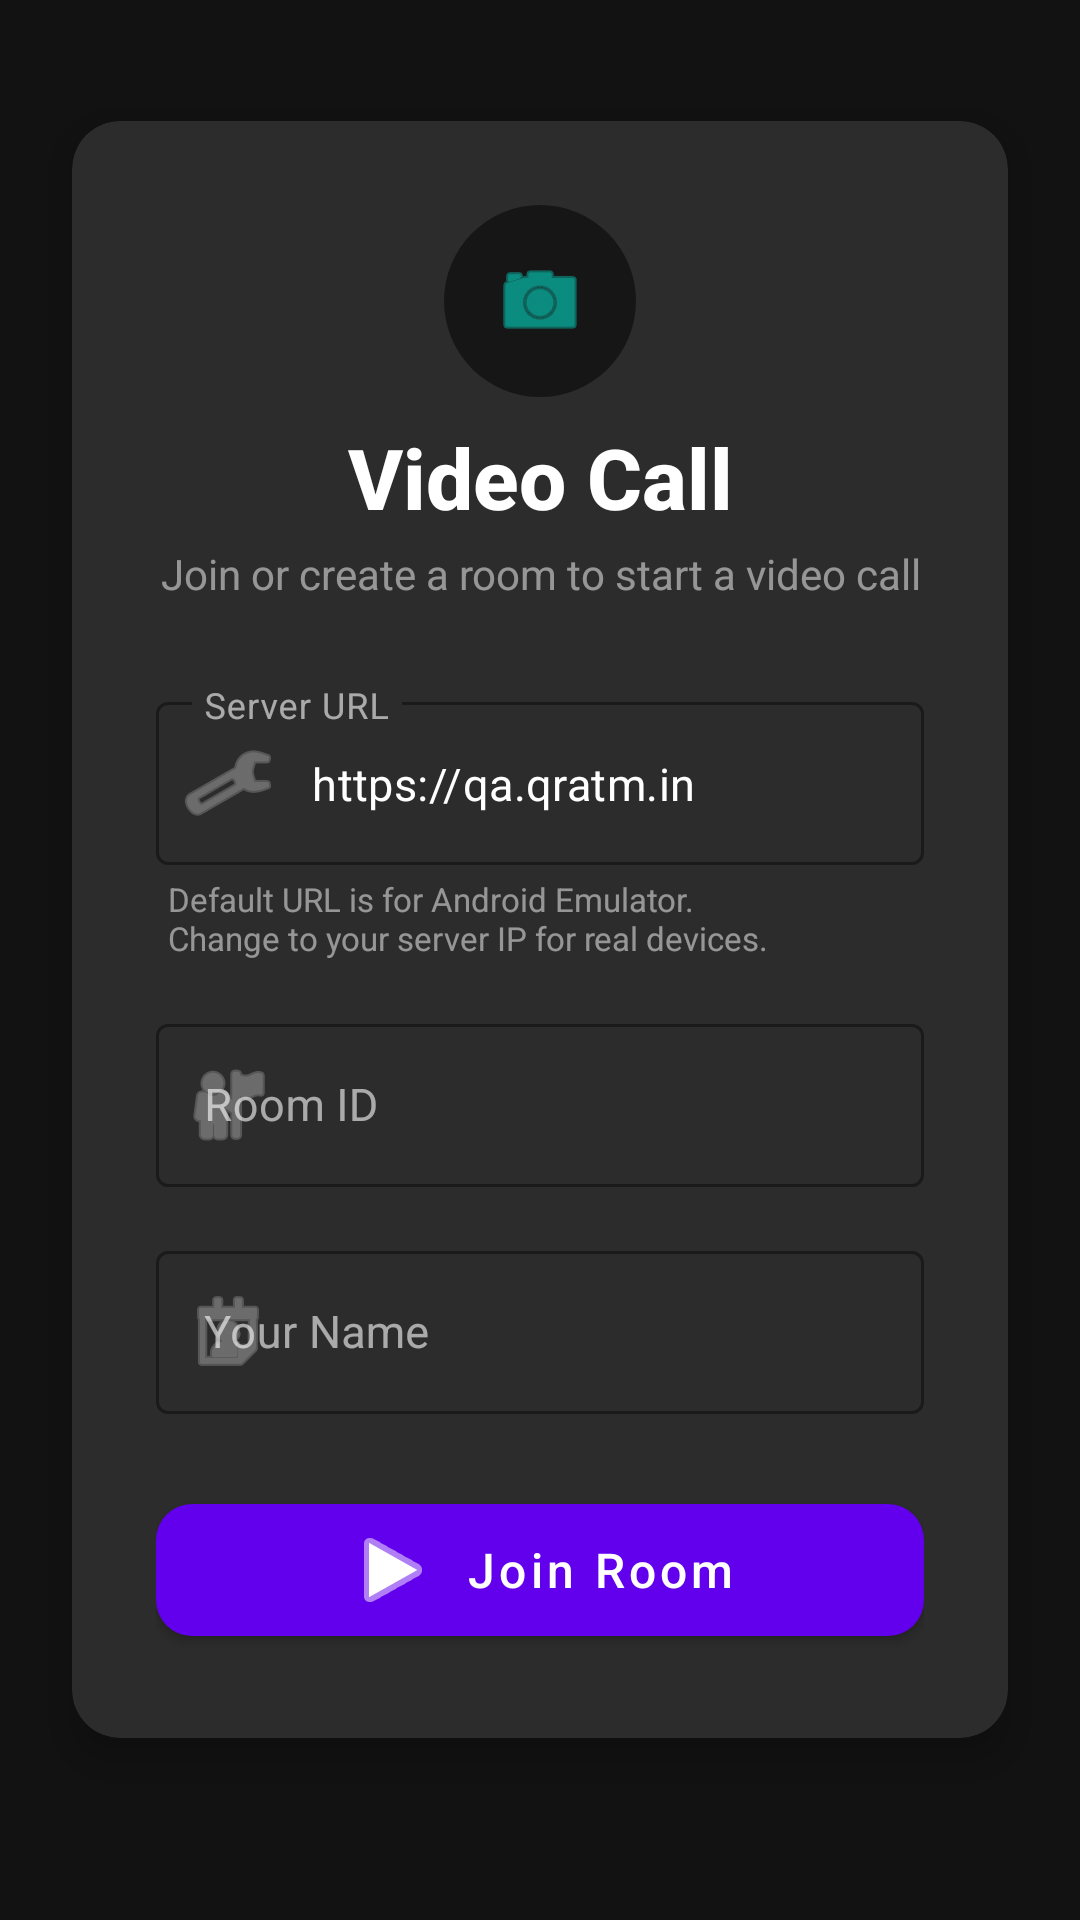

Icons on this 1080px x 1920px Android screen, each with the point to tap as (x,y):
camera: (540,299)
